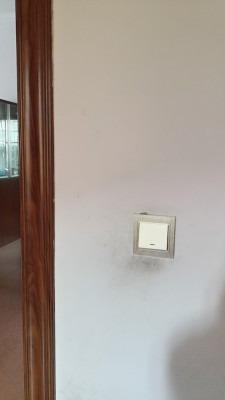switch: (135, 218, 173, 253)
